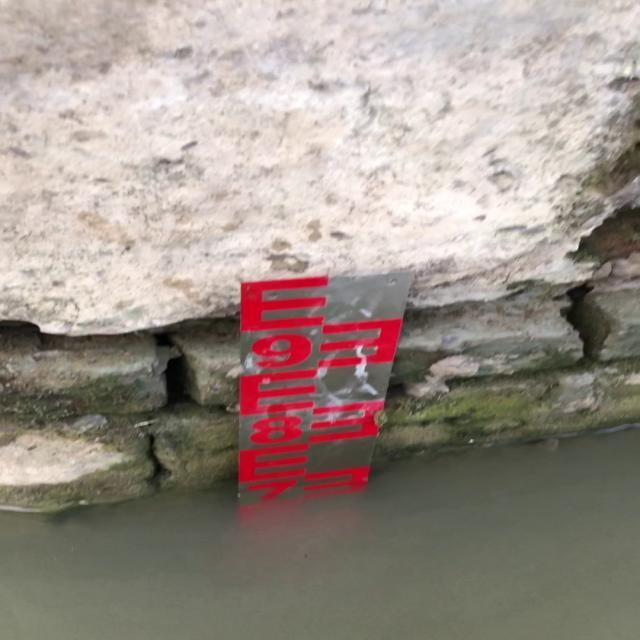ruler: (224, 259, 425, 516)
value: (238, 328, 318, 377), (238, 412, 312, 448), (240, 475, 308, 507)
